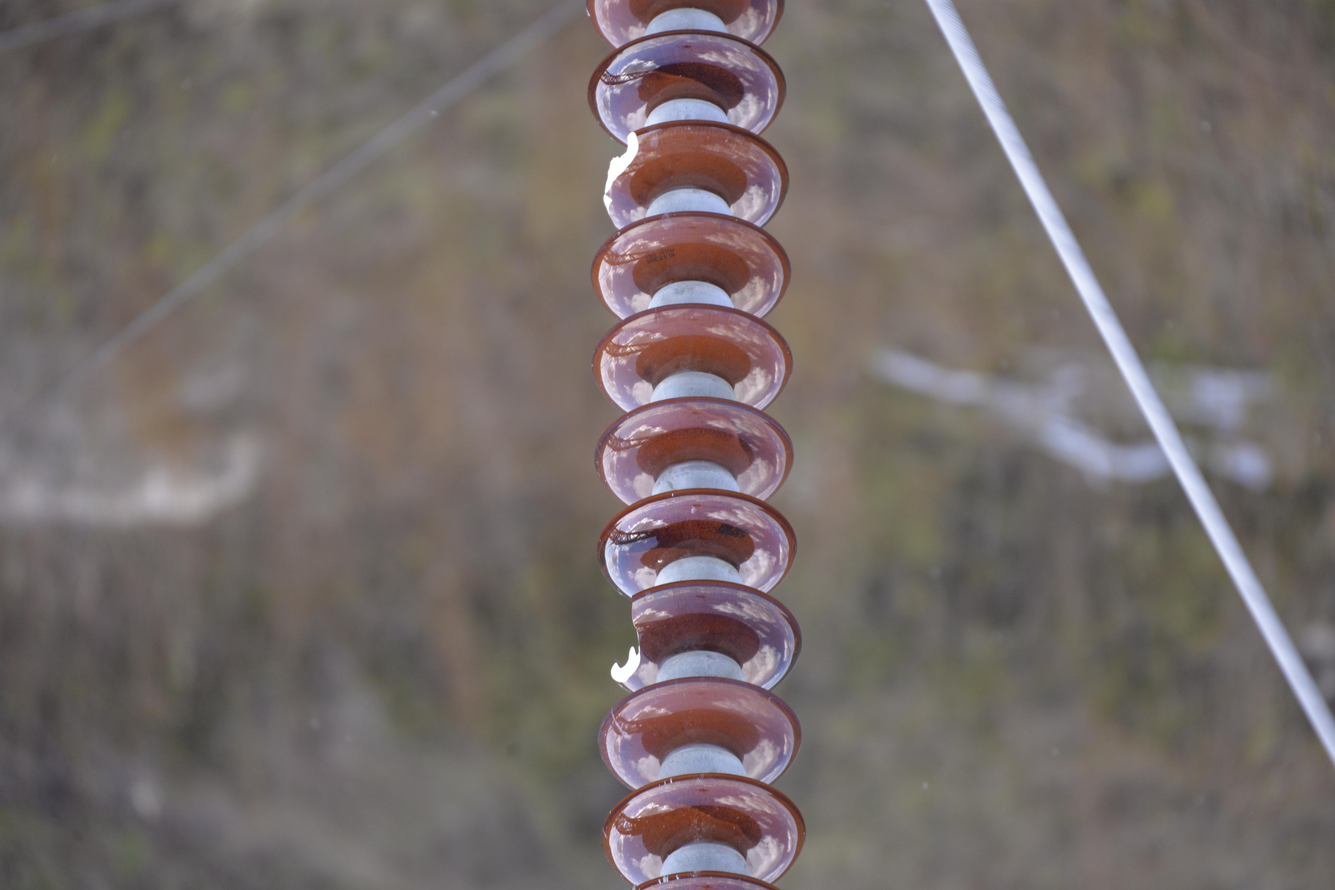damaged: (606, 585, 664, 689), (602, 125, 657, 230)
insulator: (579, 0, 804, 890)
